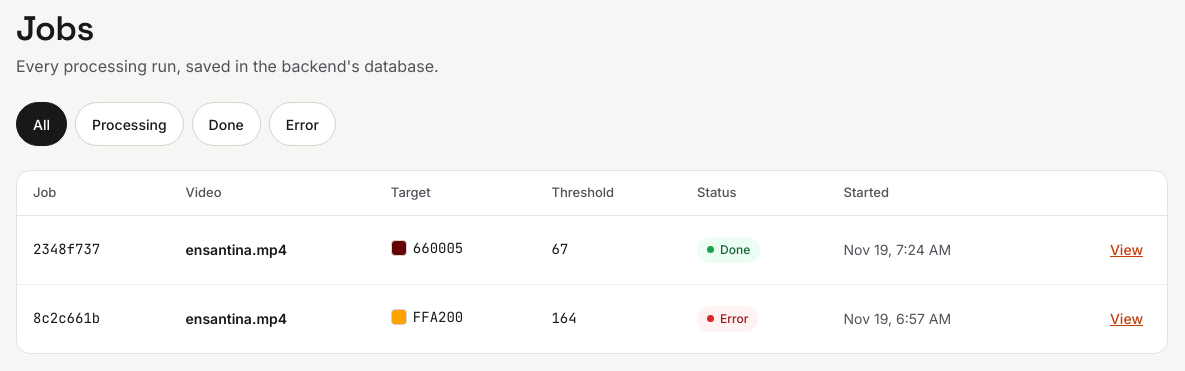
Scenario: Jobs page › filters by status
expect the table is shown: met, box x1=17 y1=171 x2=1167 y2=353
Click the button "Error" at (302, 124), box x1=269 y1=102 x2=336 y2=146
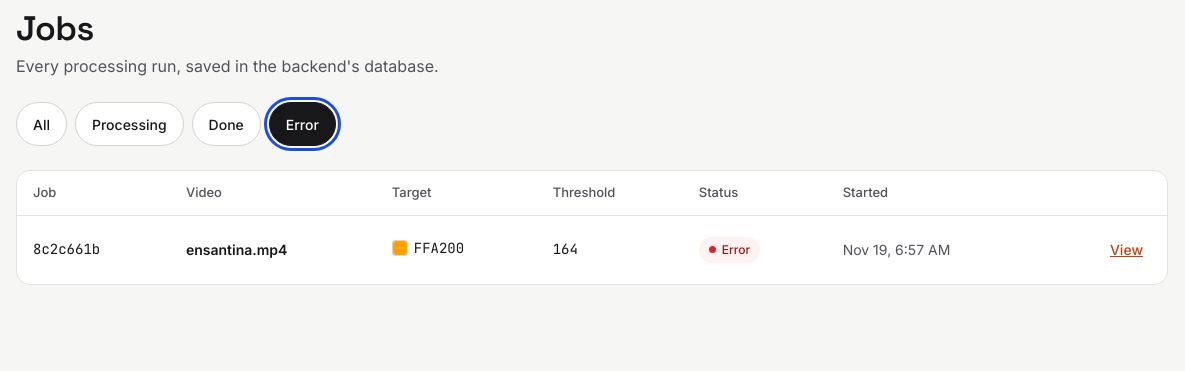
expect the text "FFA200" is shown: met, box x1=414 y1=238 x2=464 y2=259
expect the number of rows is 2: met, box x1=17 y1=171 x2=1167 y2=215; x1=17 y1=215 x2=1167 y2=284
Click the button "Processing" at (129, 124), box x1=75 y1=102 x2=184 y2=146
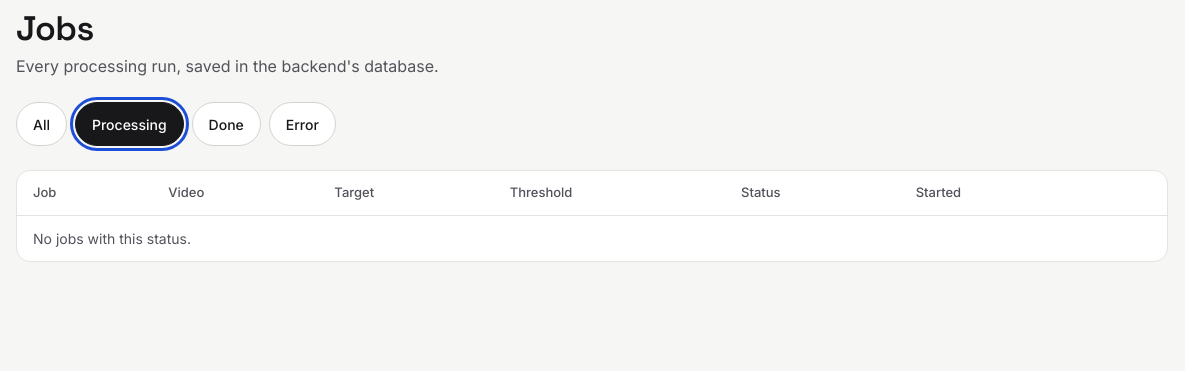
expect the text "No jobs with this status." is shown: met, box x1=17 y1=215 x2=1167 y2=261
